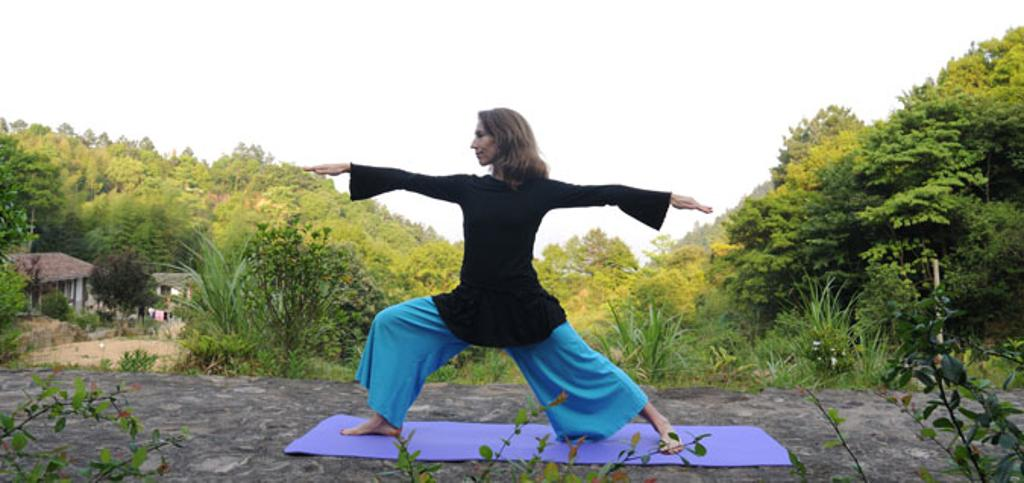face: (470, 121, 496, 164)
